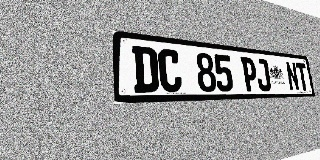5: (214, 54, 234, 92)
8: (195, 52, 217, 92)
C: (157, 48, 183, 92)
D: (132, 45, 159, 93)
J: (254, 58, 272, 91)
N: (285, 61, 300, 91)
P: (240, 57, 259, 91)
T: (295, 62, 309, 91)
